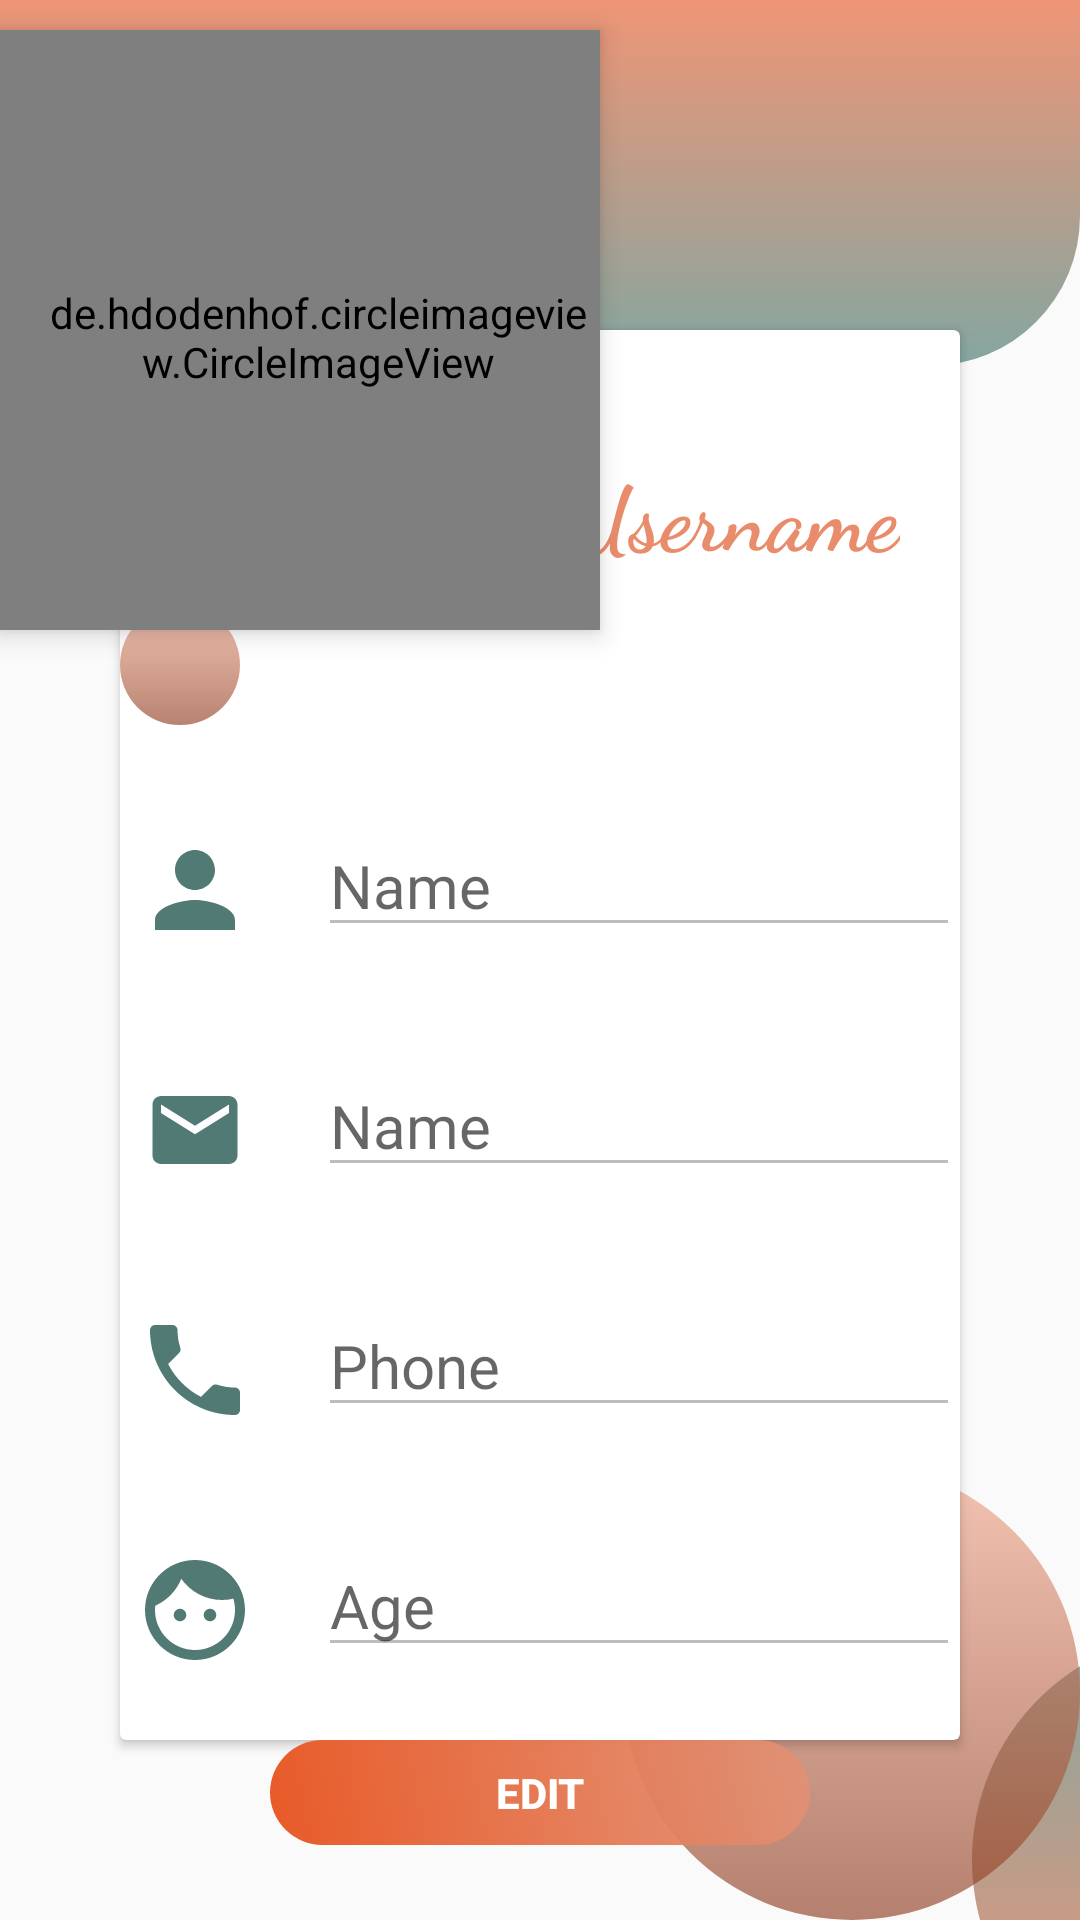

Icon bounding boxes for this 1080w x 1920h phone screenshot, format (x1, y1, x2, y2):
email: (152, 1096, 238, 1164)
face: (145, 1560, 245, 1660)
person: (155, 850, 235, 930)
